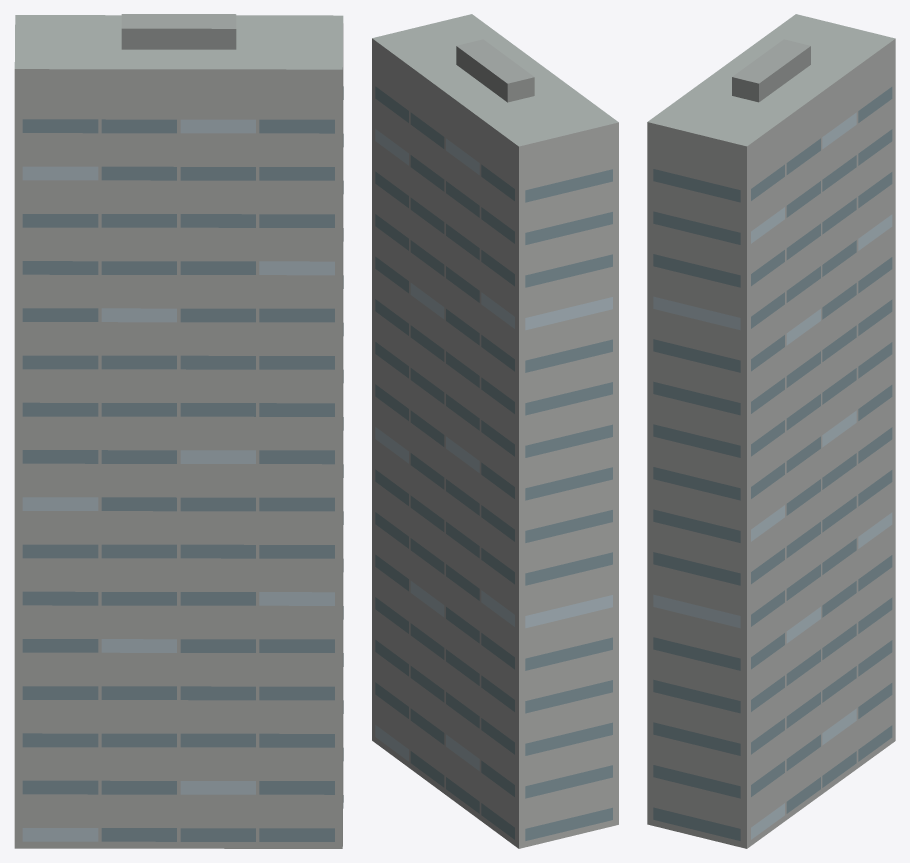
Rendered from fallback-jamsil-parkrio-205.glb.
3 renders of one model, left to right at view 1: azimuth 30°, elevation 25°; view 2: azimuth 150°, elevation 25°; view 3: azimuth 270°, elevation 25°, orthographic. The views are drawn at different scales.
Parts seen in each view (by area): view 1: fallback-jamsil-parkrio-205; view 2: fallback-jamsil-parkrio-205; view 3: fallback-jamsil-parkrio-205.
Part boxes in pixels (<box>): fallback-jamsil-parkrio-205: <box>14,14,343,848</box>; fallback-jamsil-parkrio-205: <box>372,14,618,848</box>; fallback-jamsil-parkrio-205: <box>647,14,895,848</box>.
Size of the model in its own units: 36.24 by 92 by 28.71.
